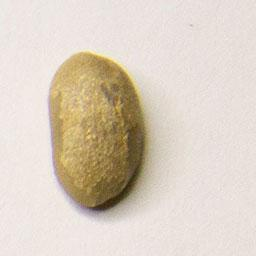longberry: (45, 48, 151, 213)
